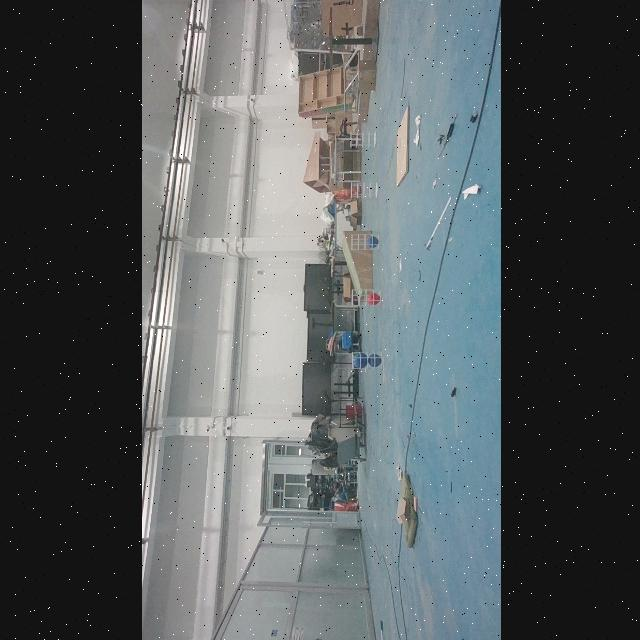B: (352, 351, 366, 369), (368, 352, 380, 368), (365, 234, 377, 250)
R: (366, 292, 378, 306)
S: (348, 349, 384, 373), (348, 288, 382, 310), (348, 231, 380, 253), (346, 128, 376, 150), (348, 179, 378, 201)
